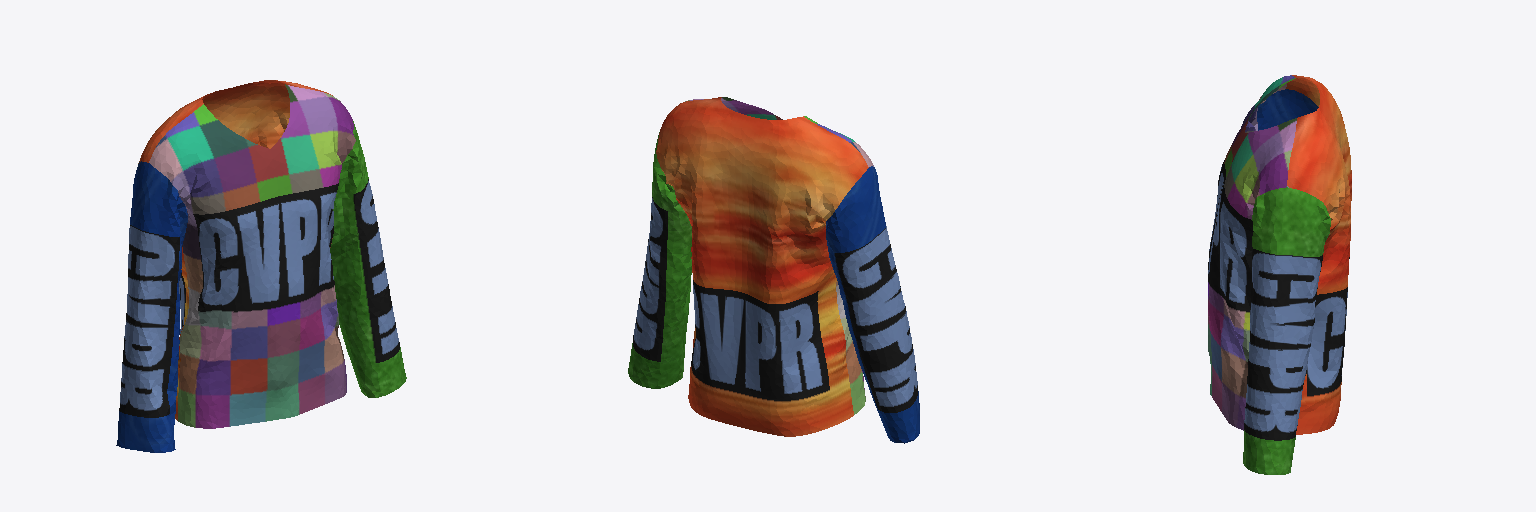
3 views of the same model, side by side, from view 1: azimuth 30°, elevation 25°; view 2: azimuth 150°, elevation 25°; view 3: azimuth 270°, elevation 25° (orthographic).
Bounding box in the file's own units: 0.5634 × 0.5945 × 0.247.
1 materials, 1 textured.